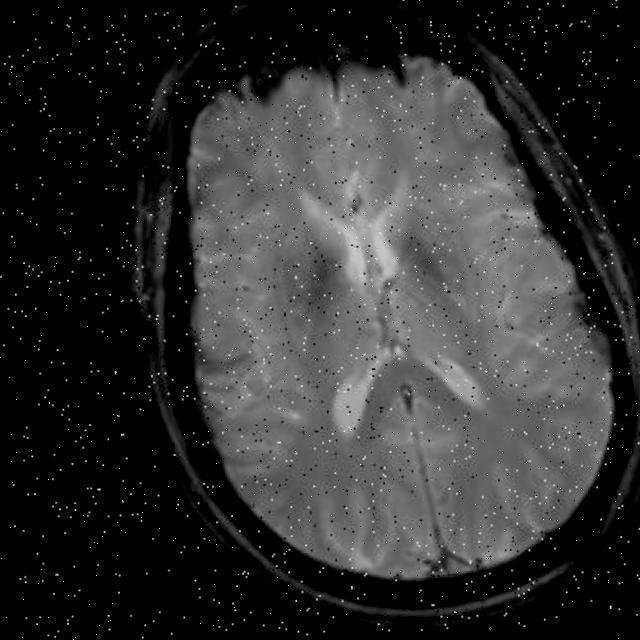LMCI: (376, 232, 504, 322)
MCI: (260, 231, 334, 301)
